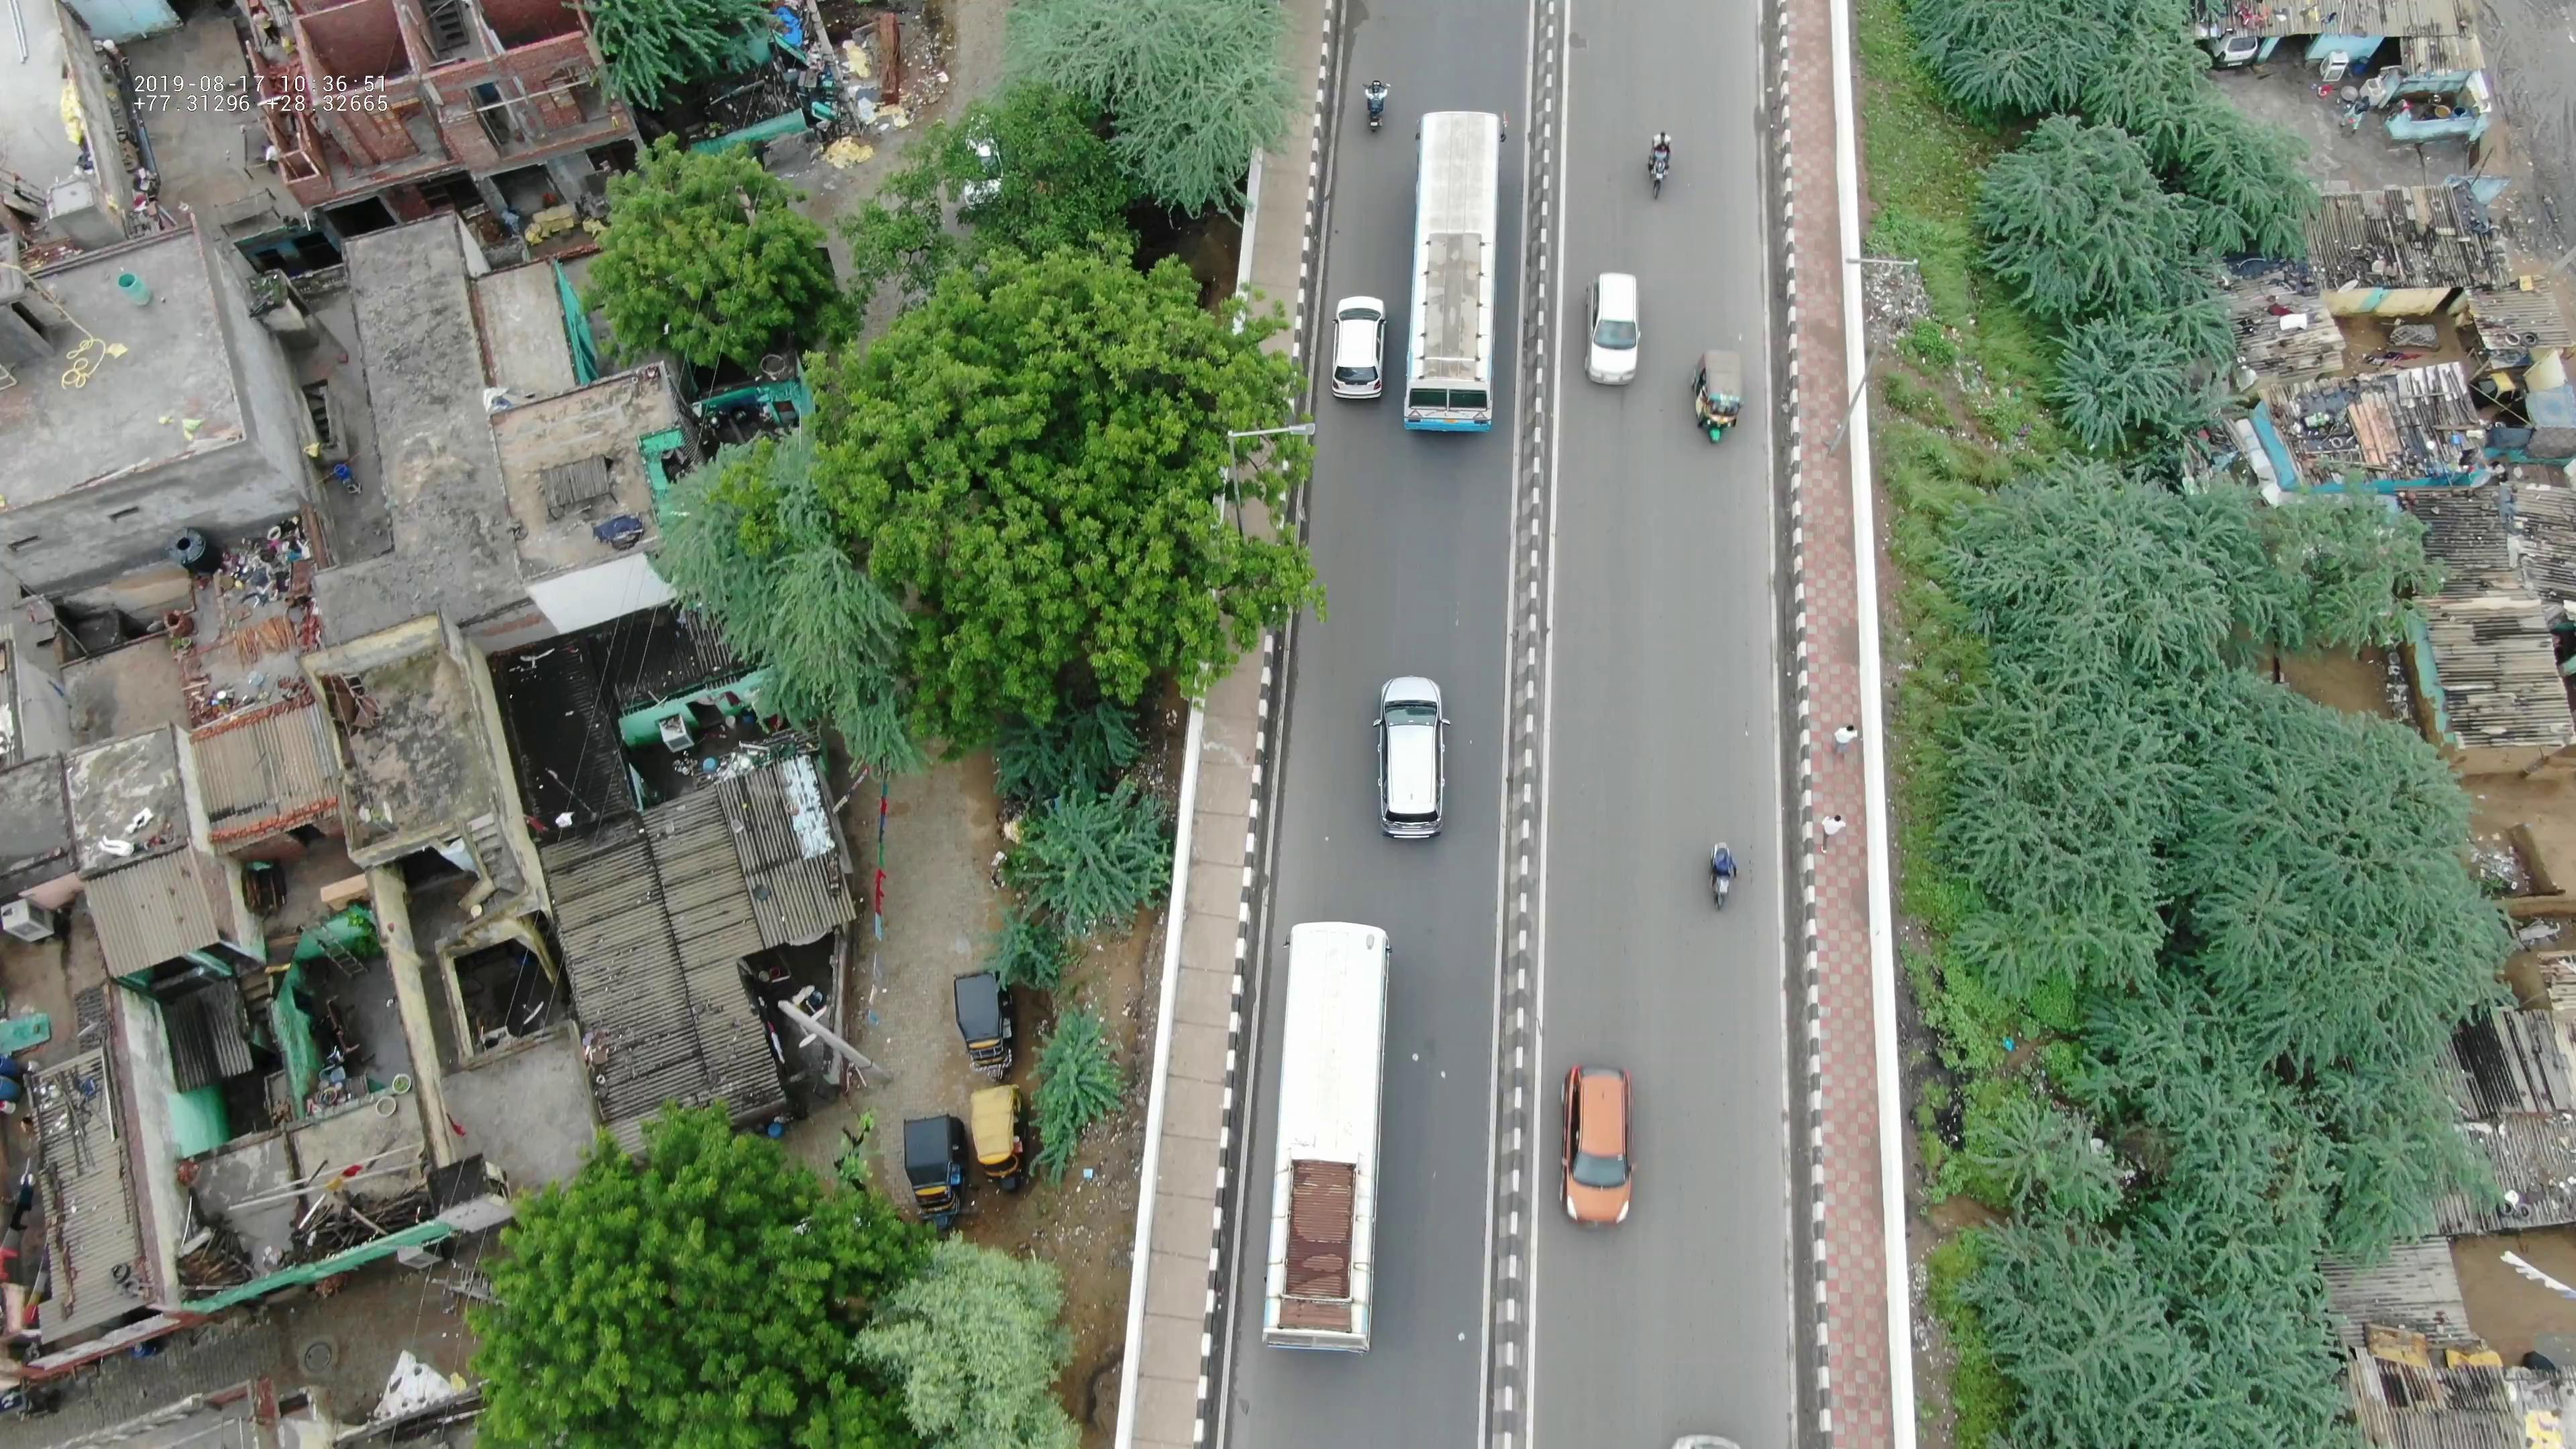Mud_Heaps: (1859, 264, 1936, 333)
